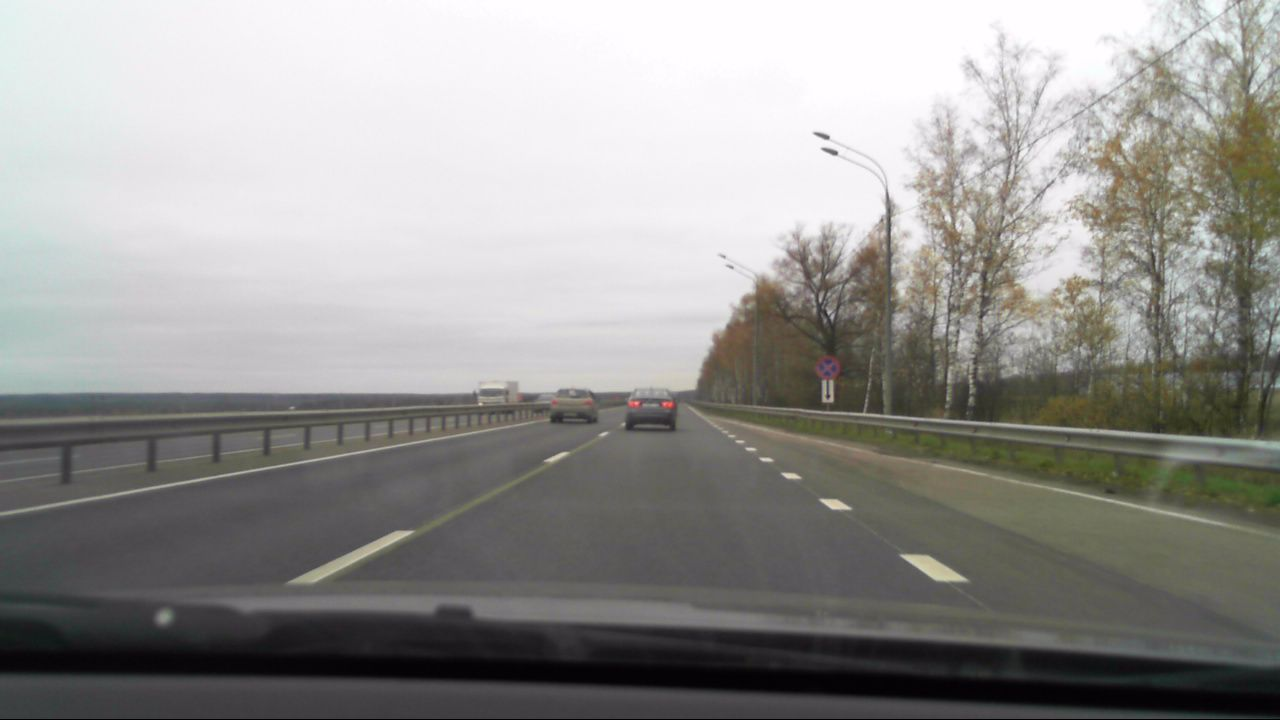No Parking: (814, 355, 839, 380)
